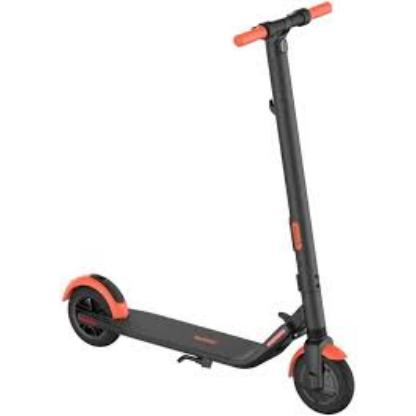bike: (62, 1, 357, 415)
